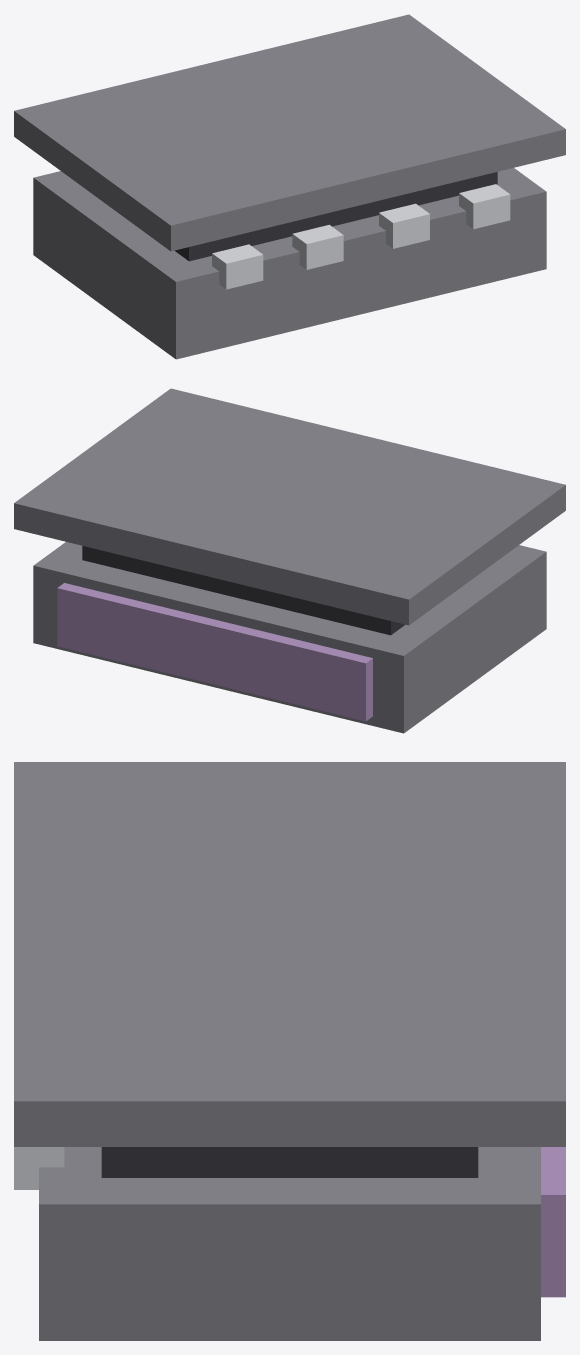
Rendered from battery_compartment.gltf.
3 views of the same model, one above another, from view 1: azimuth 30°, elevation 25°; view 2: azimuth 150°, elevation 25°; view 3: azimuth 270°, elevation 25° (orthographic). The views are drawn at different scales.
Parts seen in each view (by area): view 1: battery_compartment; view 2: battery_compartment; view 3: battery_compartment.
Part boxes in pixels (bbox=[...]): battery_compartment: bbox=[14, 14, 565, 359]; battery_compartment: bbox=[14, 388, 565, 733]; battery_compartment: bbox=[14, 762, 565, 1340].
Size of the model in its own units: 0.064 by 0.0235 by 0.044.
